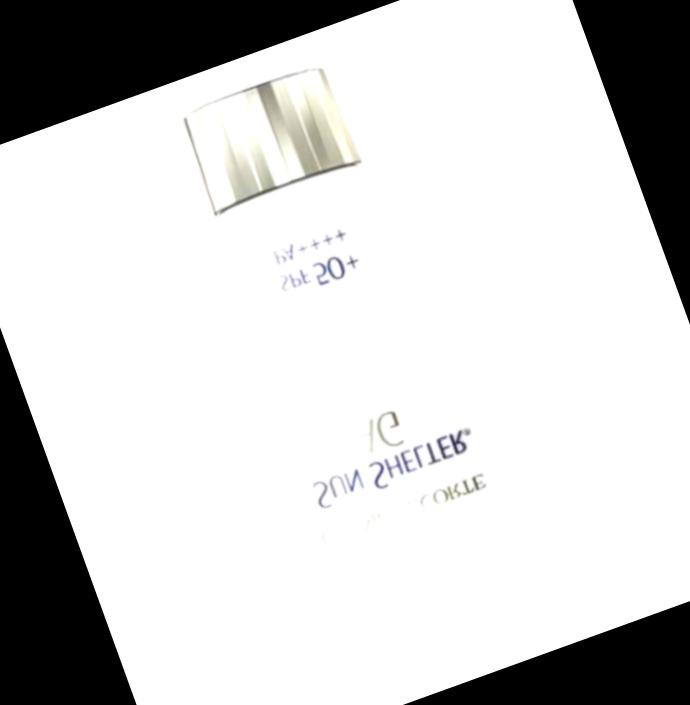cosmetic: (147, 48, 553, 671)
